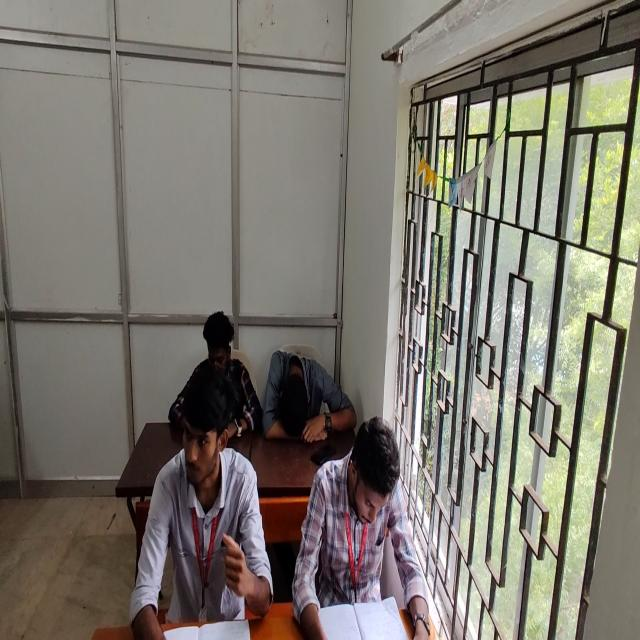reading: (296, 414, 420, 640)
sleeping: (266, 349, 356, 444)
turning: (131, 368, 275, 639)
using_mobile: (169, 311, 263, 440)
